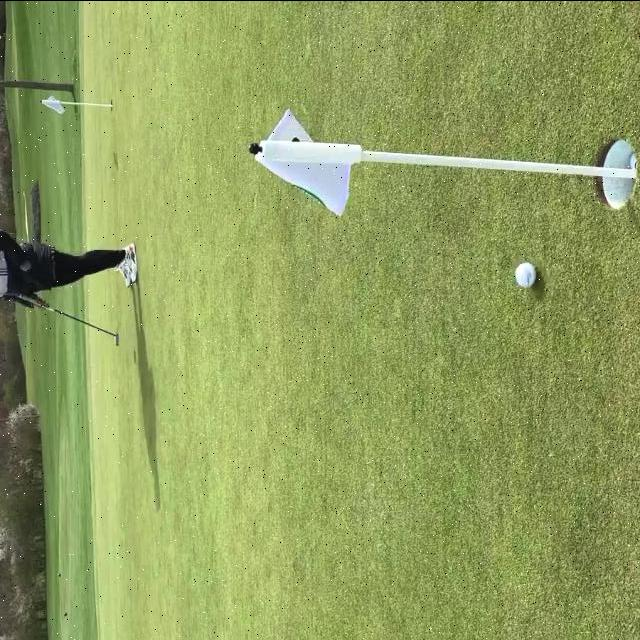golf ball: (516, 261, 537, 286)
golf club-handle: (16, 290, 120, 346)
golf club-head: (115, 332, 119, 346)
